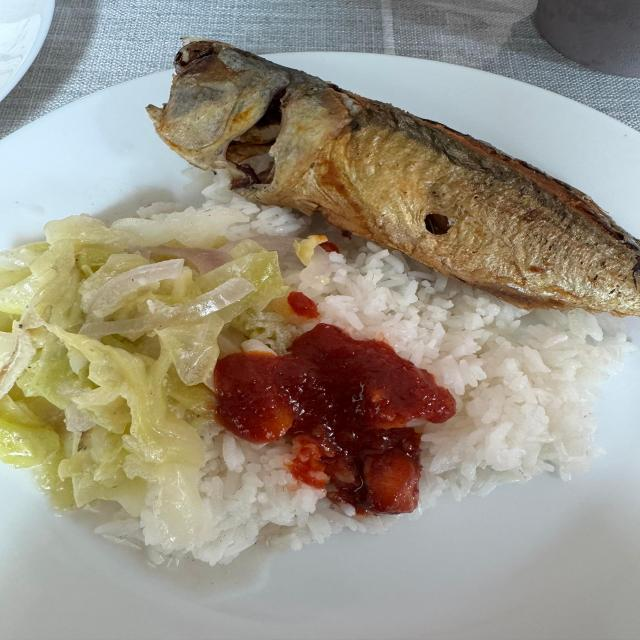Fish: (149, 35, 640, 313)
Plate: (0, 323, 639, 639)
Rice: (69, 193, 629, 571)
Vegetables: (3, 210, 277, 514)
